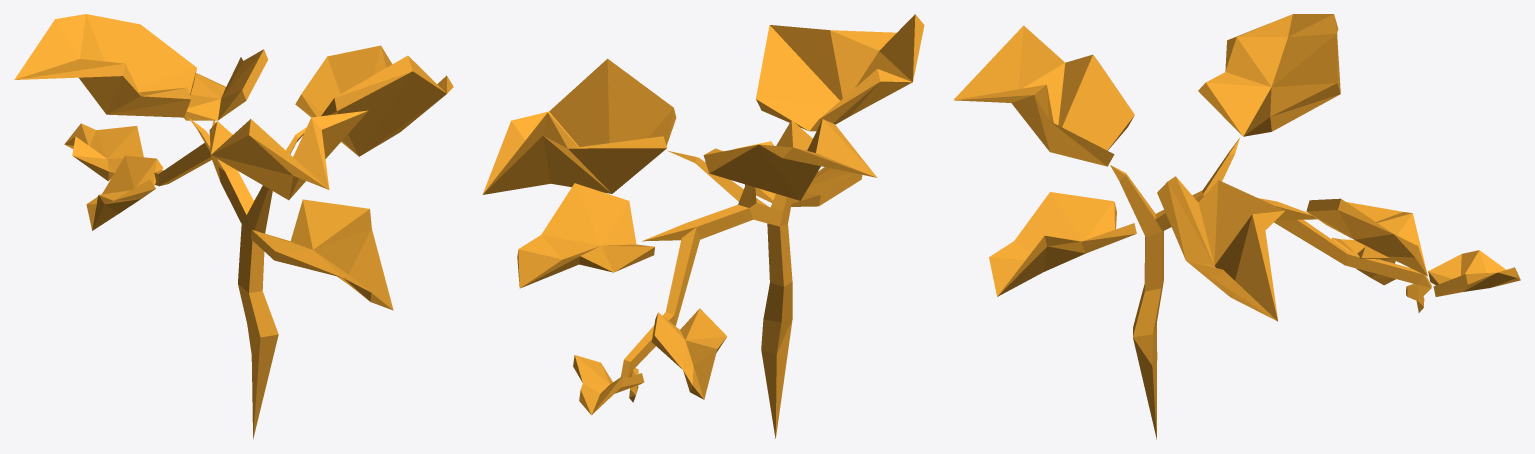
The model's file is SM_Pumpkin_Dead_B.fbx.
The picture shows the model from 3 angles, left to right: view 1: azimuth 30°, elevation 25°; view 2: azimuth 150°, elevation 25°; view 3: azimuth 270°, elevation 25°; orthographic projection. The views are drawn at different scales.
Visible parts, largest first — view 1: pumpkin-dead-b; view 2: pumpkin-dead-b; view 3: pumpkin-dead-b.
Boxes of the visible parts, left/top/right/bottom form: pumpkin-dead-b: left=14, top=14, right=453, bottom=439; pumpkin-dead-b: left=482, top=14, right=924, bottom=438; pumpkin-dead-b: left=953, top=14, right=1520, bottom=439.
Size of the model in its own units: 0.4276 by 0.396 by 0.535.
